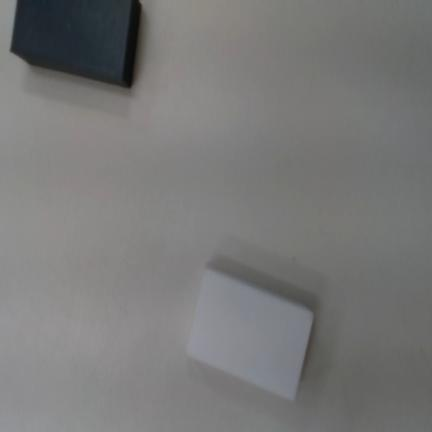Paralelepipedo: (187, 264, 314, 402), (10, 0, 142, 87)
